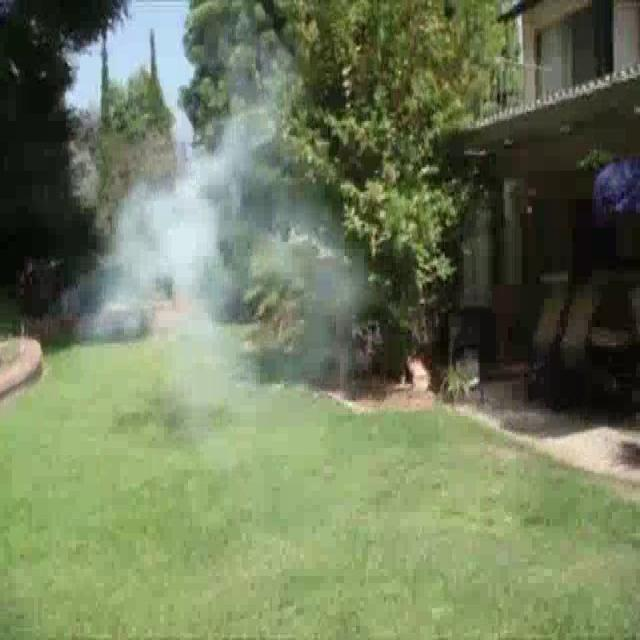Smoke: (74, 103, 374, 456)
